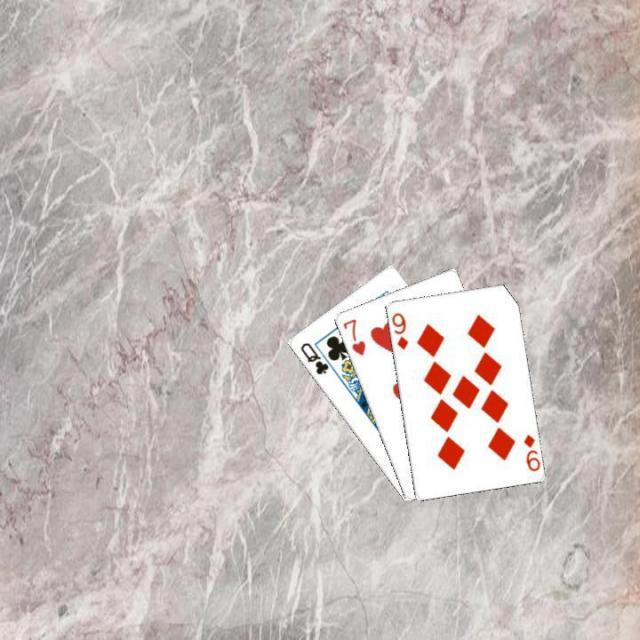7H: (339, 315, 367, 357)
9D: (388, 309, 410, 351), (519, 430, 541, 472)
QC: (296, 339, 330, 377)
